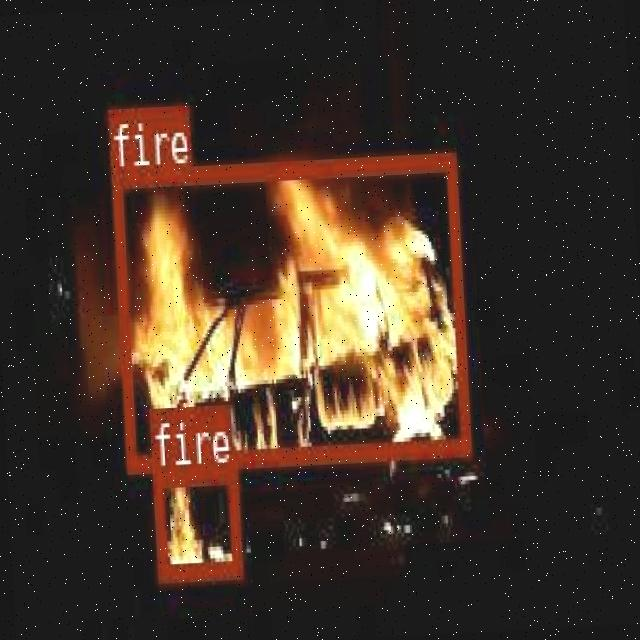fire: (109, 150, 469, 470), (150, 464, 241, 578)
